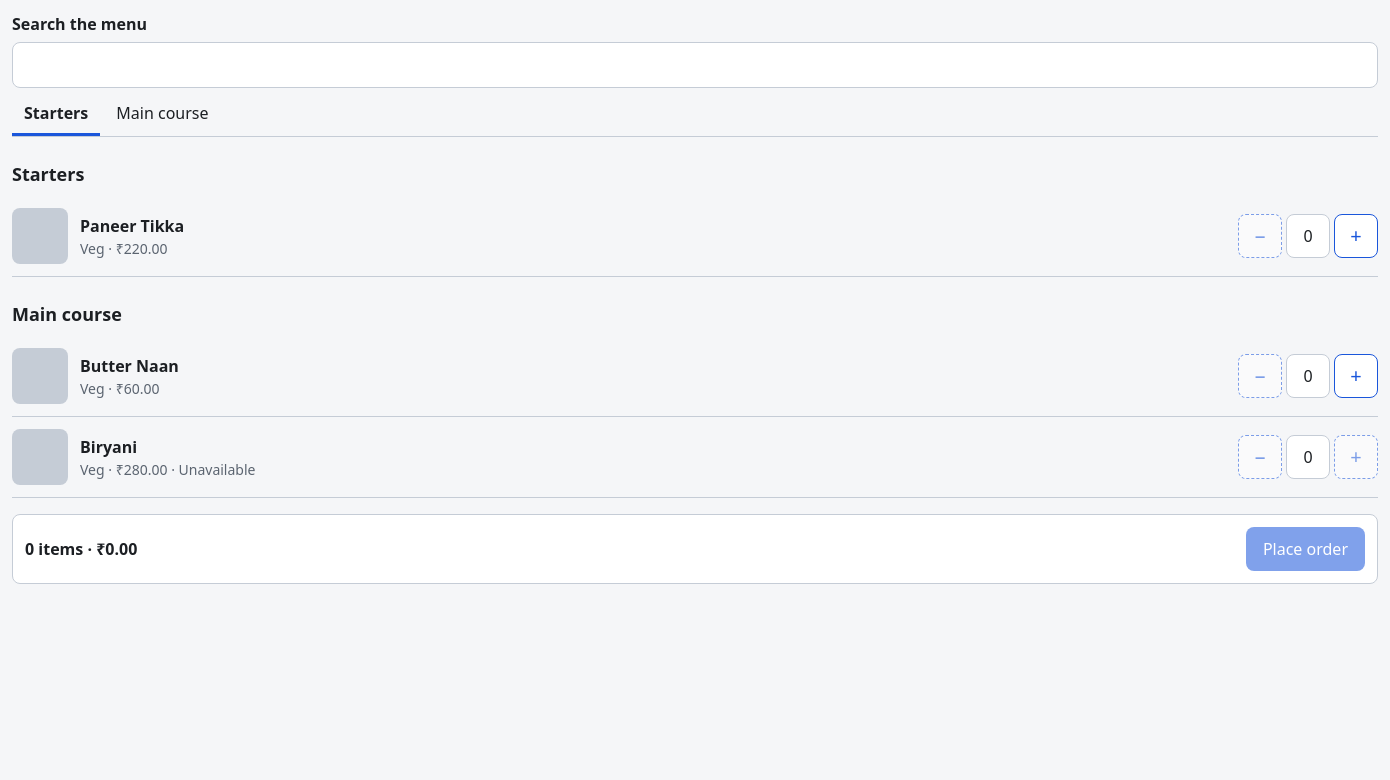
Test: RestaurantPage: the server changed the cart › takes a sold-out dish out of the cart and says so
This screenshot has width=1390, height=780.
Click the button named "Add Paneer Tikka": [1356, 236] box [1334,214,1378,258]
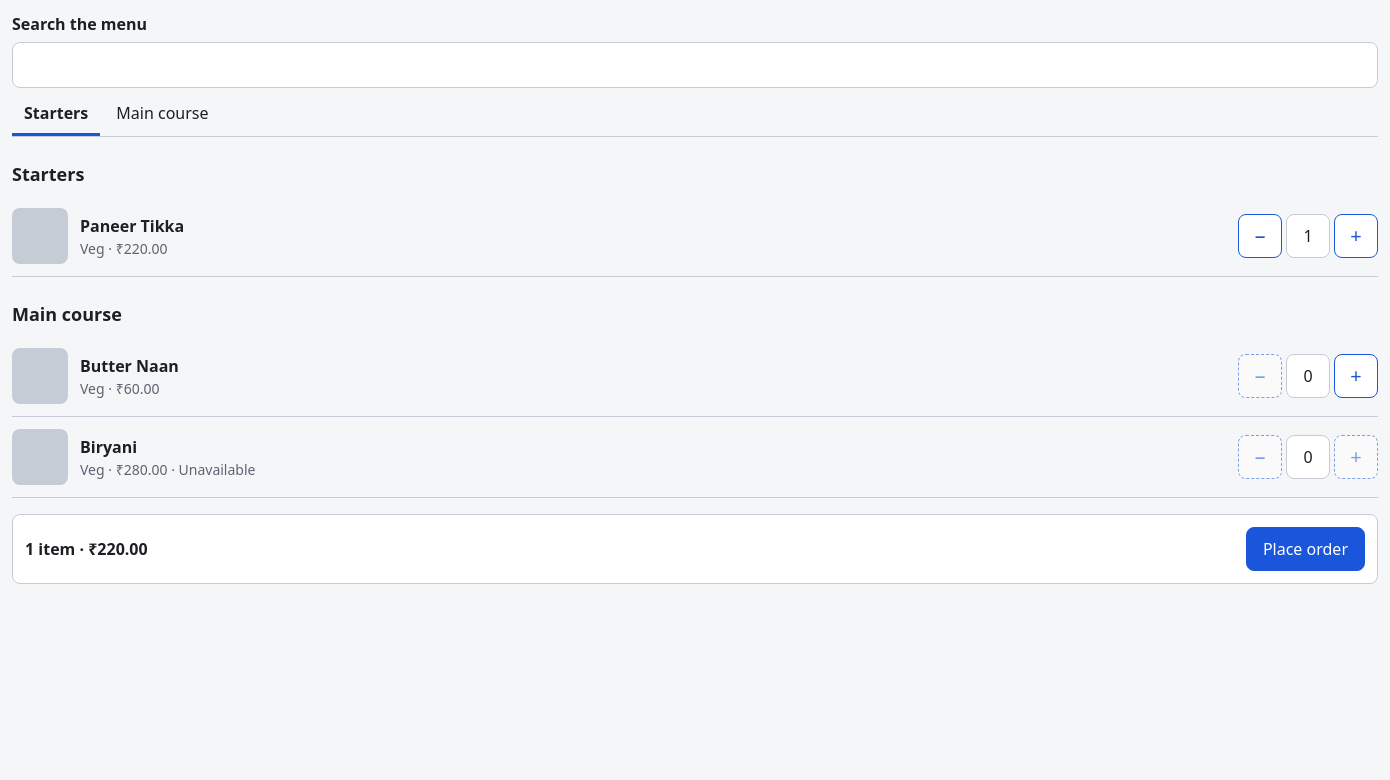
Click the button named "Add Butter Naan": [1356, 376] box [1334,354,1378,398]
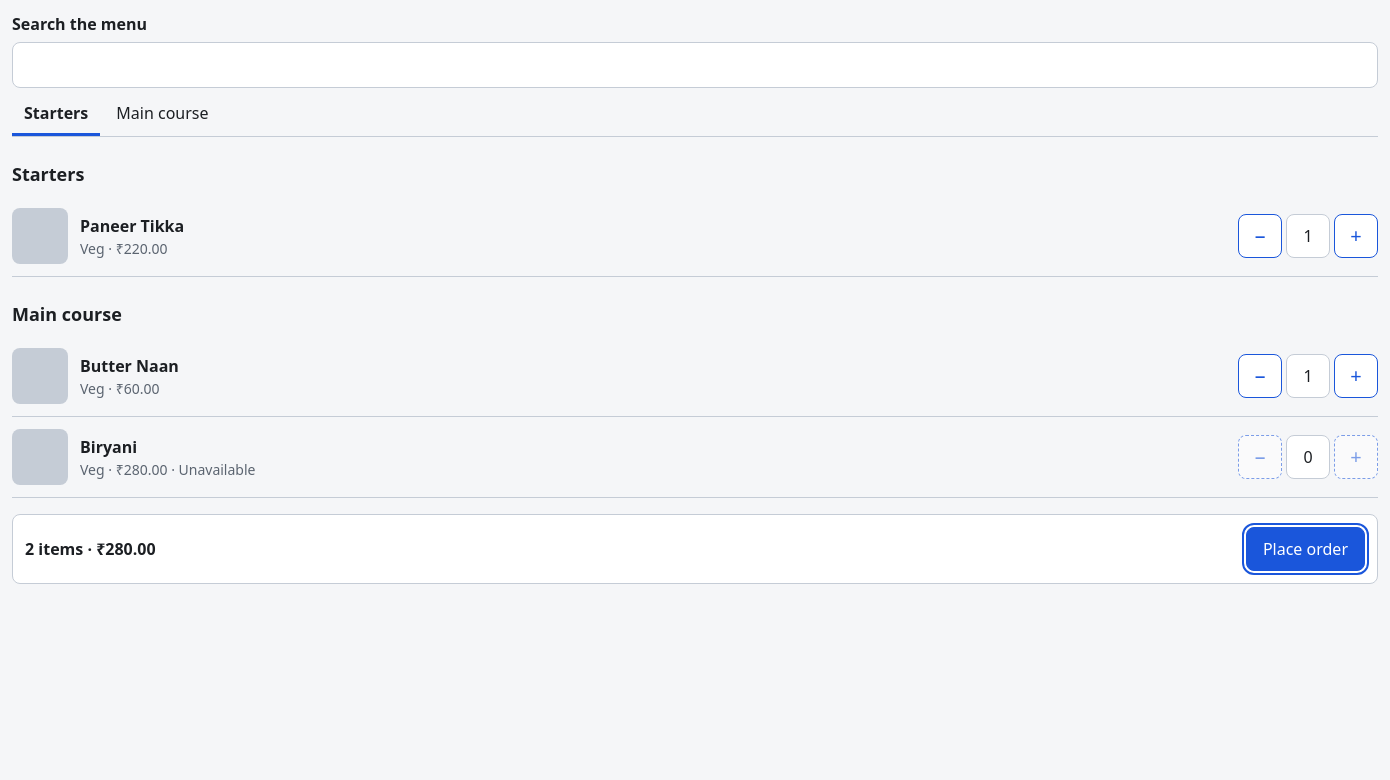
Click the button "Place order": [1305, 549] box [1246,527,1365,571]
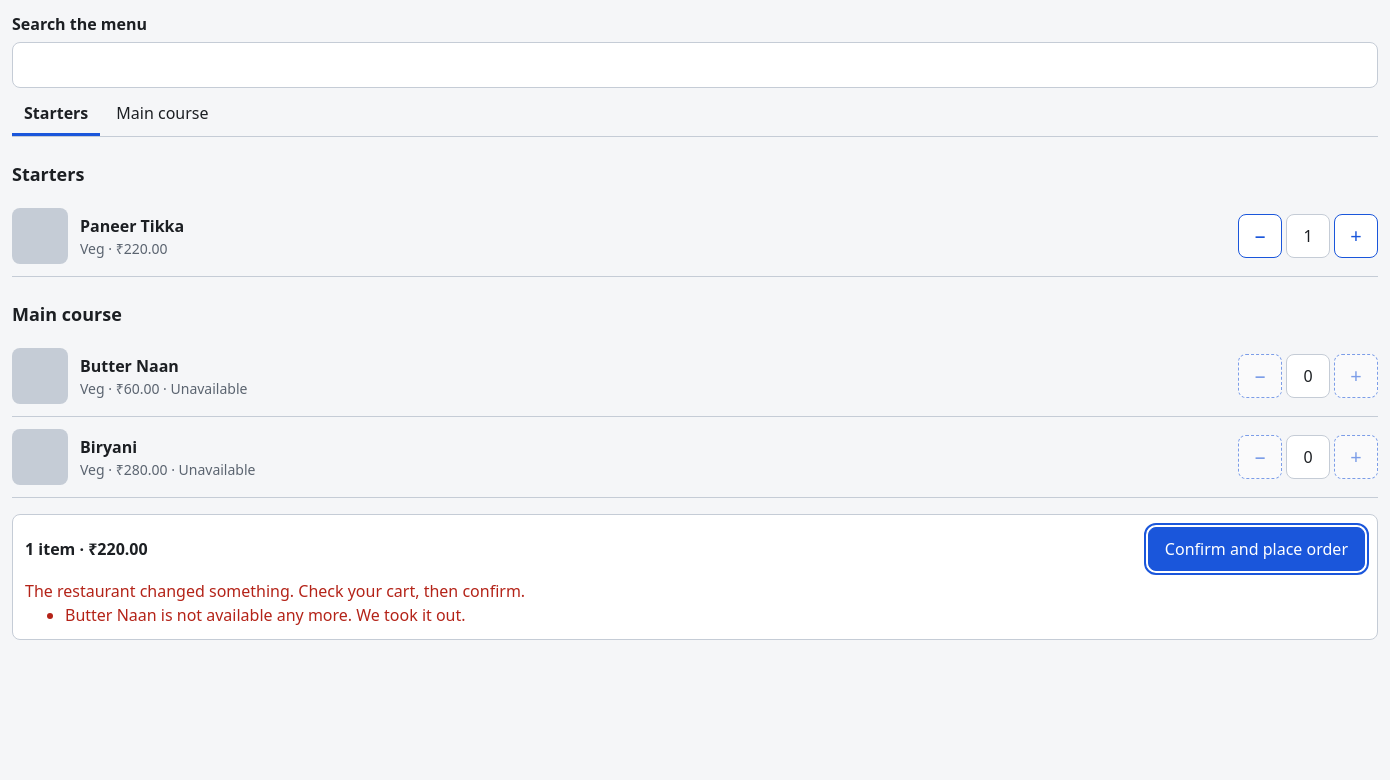
Expected: the message shows "Butter Naan is not available any more. We took it out.", [65,604,466,626]
Expected: the text "1 item · ₹220.00" is shown, [25,537,148,561]
Expected: the text "Veg · ₹60.00 · Unavailable" is shown, [80,378,247,398]
